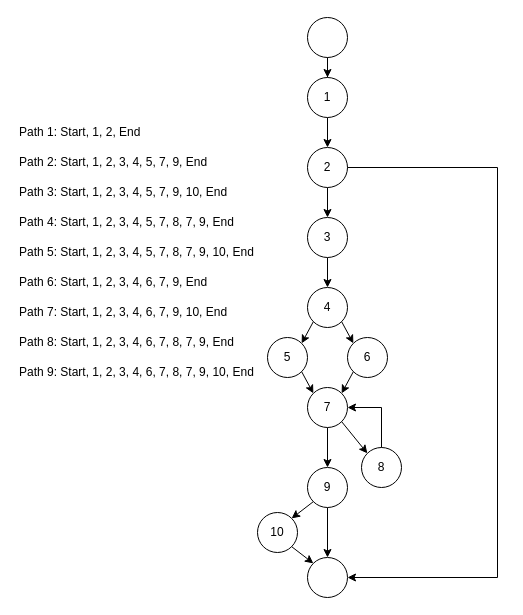
This 523x615 diagram has some shape labels left out. Each missing label, with the centre of its shape:
End: pixel 327 577
Start: pixel 327 37
